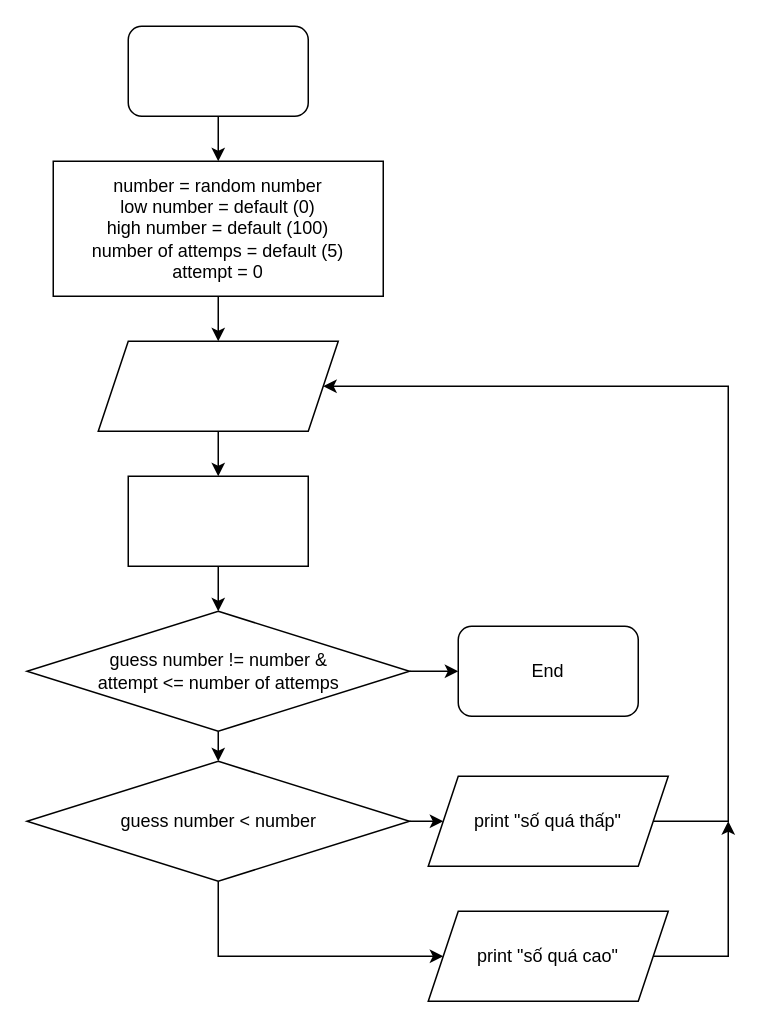
The diagram is 767 pixels wide and 1028 high, and some of its shapes have lost their labels. Here are the shapes that lost their labels. From the top down, the centre of each, then its label:
the point at 217,70: Start
the point at 217,385: read guess number
the point at 217,520: attempt += 1
